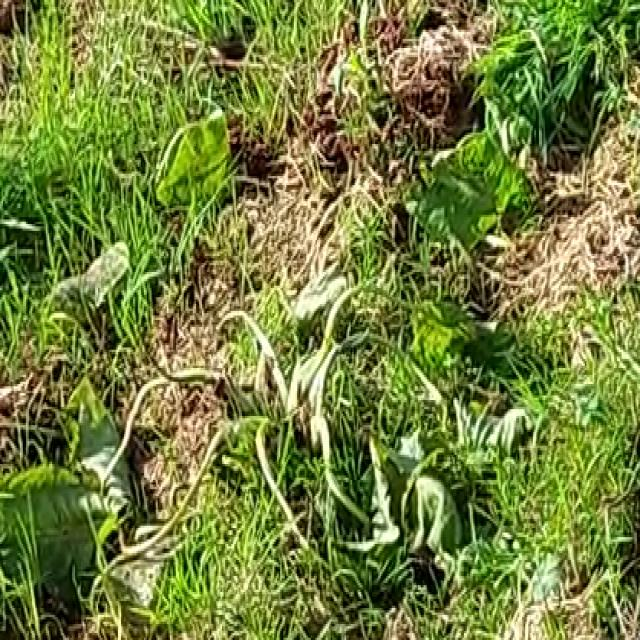organic waste: (14, 89, 536, 576)
